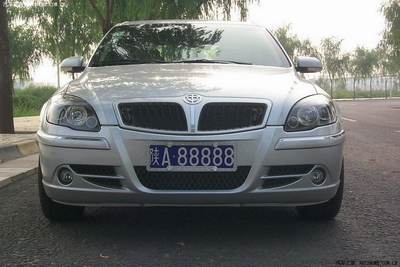plate_number: (147, 141, 238, 173)
